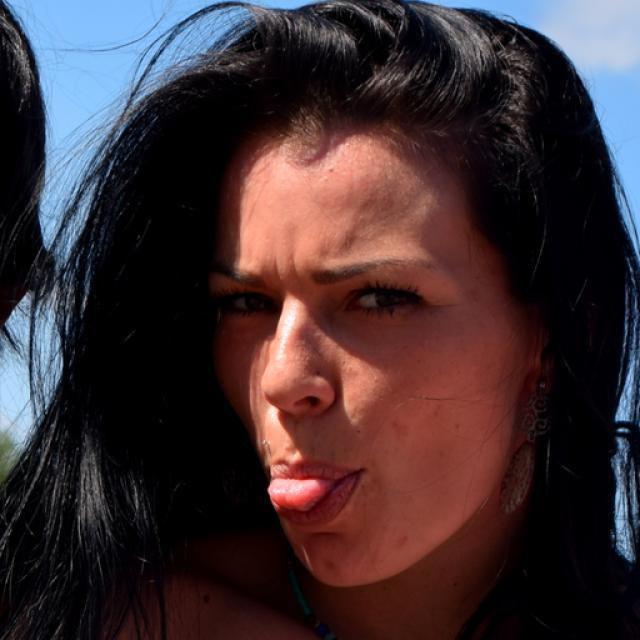anger: (205, 104, 530, 588)
